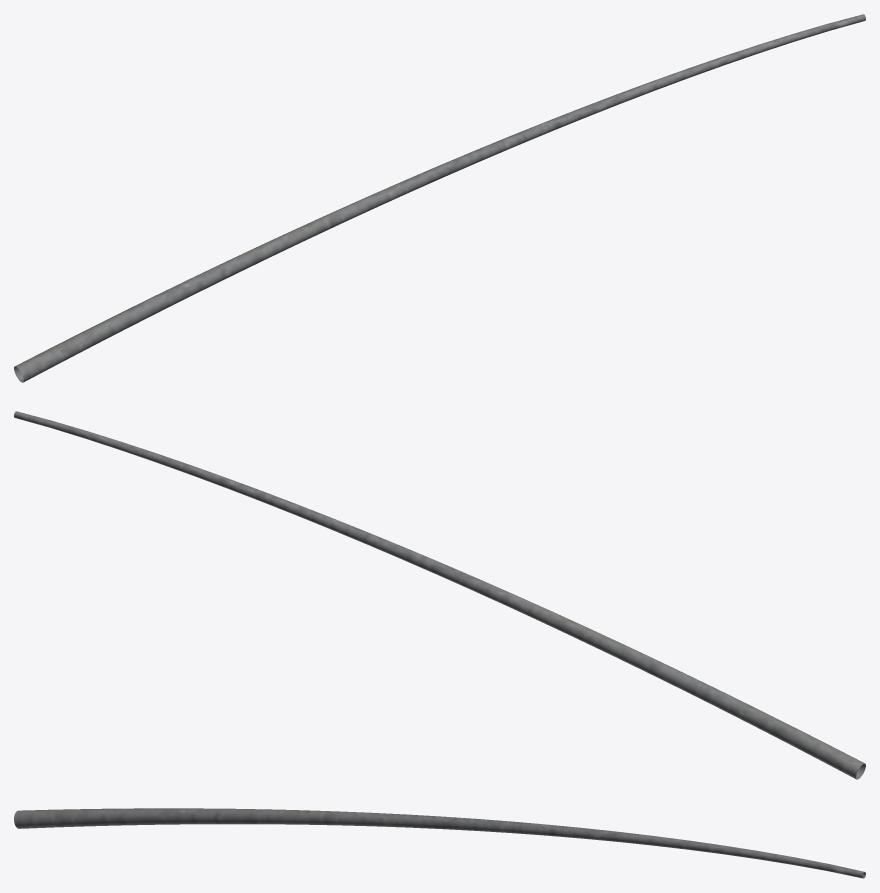
File: armRise6-v1-galvanised.glb
3 renders of one model, top to bottom at view 1: azimuth 30°, elevation 25°; view 2: azimuth 150°, elevation 25°; view 3: azimuth 330°, elevation 25°, orthographic.
Parts seen in each view (by area): view 1: armRise6-v1-galvanised; view 2: armRise6-v1-galvanised; view 3: armRise6-v1-galvanised.
Boxes of the visible parts, x1,y1,x2,y2 form: armRise6-v1-galvanised: [14, 14, 865, 382]; armRise6-v1-galvanised: [14, 411, 865, 779]; armRise6-v1-galvanised: [14, 808, 865, 878].
Size of the model in its own units: 13.75 by 2.51 by 0.2572.
1 material, 1 textured.
